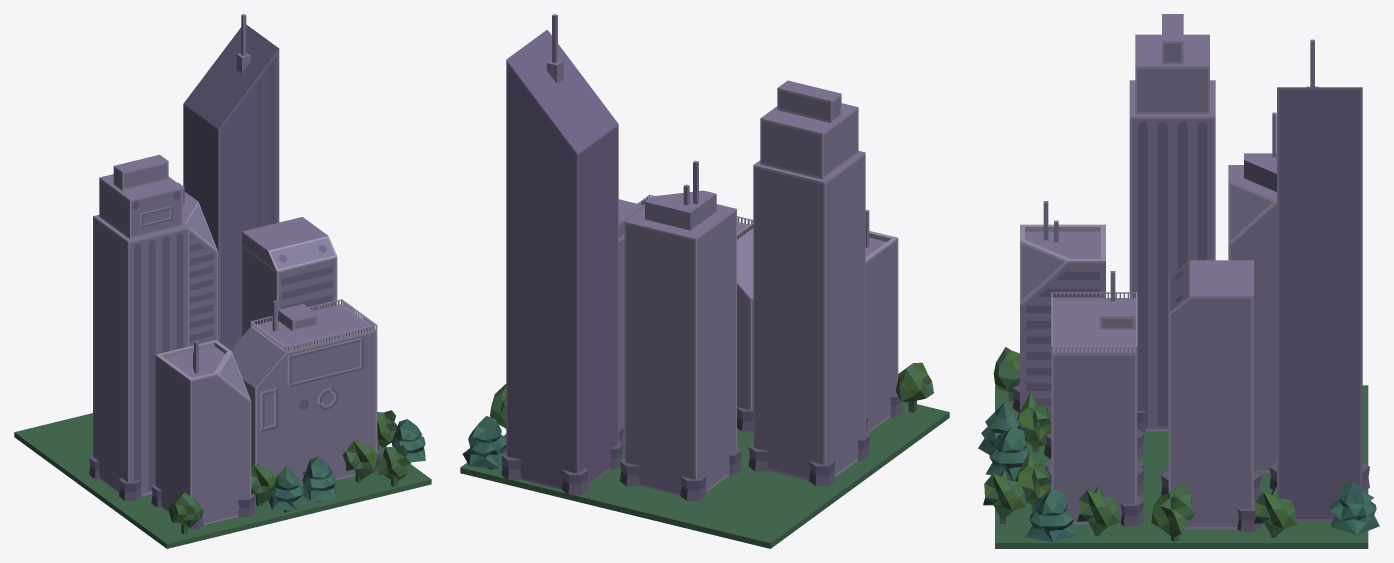
File: Main_Menu.fbx
3 views of the same model, side by side, from view 1: azimuth 30°, elevation 25°; view 2: azimuth 150°, elevation 25°; view 3: azimuth 270°, elevation 25° (orthographic). The views are drawn at different scales.
Parts seen in each view (by area): view 1: Apartment2(Default)(Seismic), Apartment6(Default)(Seismic), Apartment4(Default)(Seismic), Apartment(Ground).002, Apartment1(Default)(Seismic), Apartment5(Default)(Seismic), Apartment3(Default)(Seismic), Apartments(Default)(SeismicIsolators); view 2: Apartment4(Default)(Seismic), Apartment2(Default)(Seismic), Apartment3(Default)(Seismic), Apartment(Ground).002, Apartment1(Default)(Seismic), Apartments(Default)(SeismicIsolators), Apartment6(Default)(Seismic), Apartment5(Default)(Seismic); view 3: Apartment4(Default)(Seismic), Apartment(Ground).002, Apartment2(Default)(Seismic), Apartment5(Default)(Seismic), Apartment6(Default)(Seismic), Apartment3(Default)(Seismic), Apartment1(Default)(Seismic), Apartments(Default)(SeismicIsolators).
Part boxes in pixels (<box>): Apartment2(Default)(Seismic): <box>93,154,189,496</box>; Apartment6(Default)(Seismic): <box>230,299,377,486</box>; Apartment4(Default)(Seismic): <box>183,14,279,349</box>; Apartment(Ground).002: <box>14,410,431,548</box>; Apartment1(Default)(Seismic): <box>155,340,251,524</box>; Apartment5(Default)(Seismic): <box>242,217,337,336</box>; Apartment3(Default)(Seismic): <box>178,182,218,346</box>; Apartments(Default)(SeismicIsolators): <box>89,450,380,529</box>; Apartment4(Default)(Seismic): <box>506,14,618,489</box>; Apartment2(Default)(Seismic): <box>753,80,865,480</box>; Apartment3(Default)(Seismic): <box>624,160,736,495</box>; Apartment(Ground).002: <box>460,362,949,548</box>; Apartment1(Default)(Seismic): <box>865,209,898,433</box>; Apartments(Default)(SeismicIsolators): <box>501,393,902,500</box>; Apartment6(Default)(Seismic): <box>637,194,753,410</box>; Apartment5(Default)(Seismic): <box>618,199,644,443</box>; Apartment4(Default)(Seismic): <box>1277,39,1362,520</box>; Apartment(Ground).002: <box>978,347,1379,548</box>; Apartment2(Default)(Seismic): <box>1129,14,1215,431</box>; Apartment5(Default)(Seismic): <box>1168,260,1253,529</box>; Apartment6(Default)(Seismic): <box>1051,271,1137,524</box>; Apartment3(Default)(Seismic): <box>1228,112,1276,472</box>; Apartment1(Default)(Seismic): <box>1020,201,1105,421</box>; Apartments(Default)(SeismicIsolators): <box>1012,385,1369,531</box>.
Size of the model in its own units: 185 by 244 by 188.
